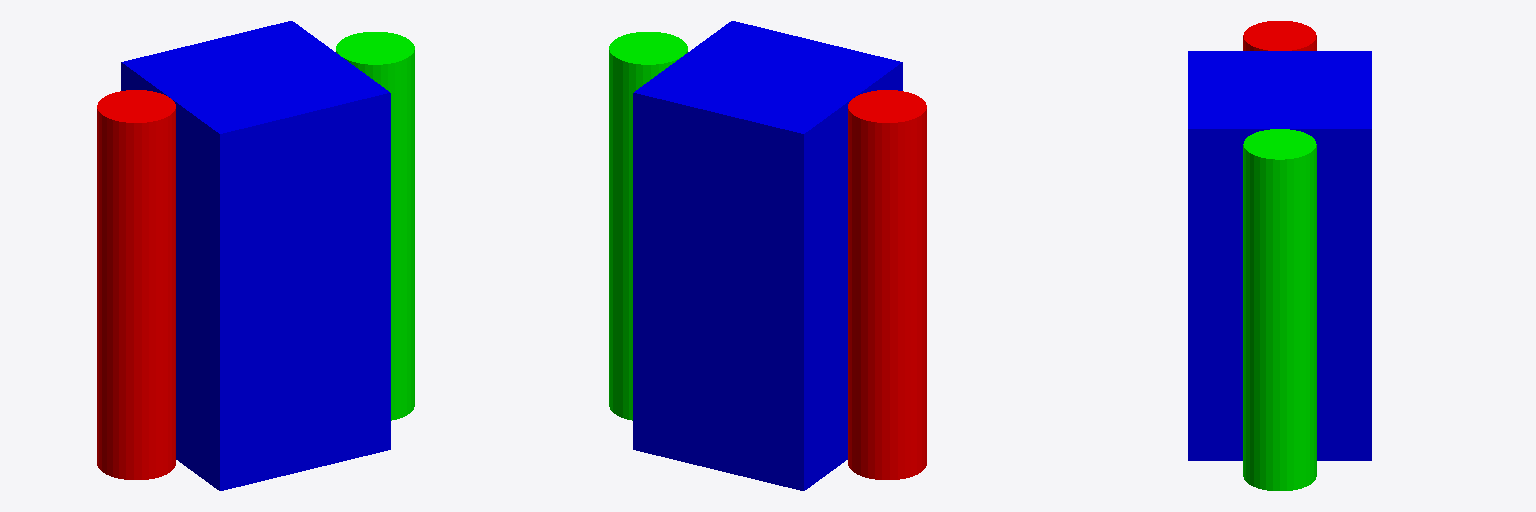
The robot description file, URDF, robot "simple_two_armed_robot":
<?xml version="1.0" ?>
<!-- =================================================================================== -->
<!-- |    This document was autogenerated by xacro from [local-path]/marvin/ros2_ws/src/marvin/urdf/marvin.urdf.xacro | -->
<!-- |    EDITING THIS FILE BY HAND IS NOT RECOMMENDED                                 | -->
<!-- =================================================================================== -->
<robot name="simple_two_armed_robot">
  <!-- Define a 'world' link as an anchor point (invisible and non-collidable) -->
  <link name="world"/>
  <!-- Connect 'world' link to 'base_link' with a fixed joint to position the robot above ground -->
  <joint name="world_to_base" type="fixed">
    <parent link="world"/>
    <child link="base_link"/>
    <!-- Adjust Z in the origin to set the height above ground -->
    <origin rpy="0 0 0" xyz="0 0 0.5"/>
  </joint>
  <!-- Material Definitions -->
  <material name="blue">
    <color rgba="0 0 1 1"/>
  </material>
  <material name="green">
    <color rgba="0 1 0 1"/>
  </material>
  <material name="red">
    <color rgba="1 0 0 1"/>
  </material>
  <!-- base_link (Torso) Link -->
  <link name="base_link">
    <inertial>
      <origin rpy="0 0 0" xyz="0 0 0"/>
      <mass value="10.0"/>
      <inertia ixx="0.1" ixy="0" ixz="0" iyy="0.1" iyz="0" izz="0.2"/>
    </inertial>
    <visual>
      <geometry>
        <box size="0.5 0.5 1"/>
      </geometry>
      <material name="blue"/>
    </visual>
  </link>
  <link name="left_arm">
    <inertial>
      <origin rpy="0 0 0" xyz="0 0 0"/>
      <mass value="1.0"/>
      <inertia ixx="0.01" ixy="0" ixz="0" iyy="0.01" iyz="0" izz="0.02"/>
    </inertial>
    <visual>
      <geometry>
        <cylinder length="1" radius="0.1"/>
      </geometry>
      <origin rpy="0 0 0" xyz="0.1 0 -0.5"/>
      <material name="green"/>
    </visual>
  </link>
  <link name="right_arm">
    <inertial>
      <origin rpy="0 0 0" xyz="0 0 0"/>
      <mass value="1.0"/>
      <inertia ixx="0.01" ixy="0" ixz="0" iyy="0.01" iyz="0" izz="0.02"/>
    </inertial>
    <visual>
      <geometry>
        <cylinder length="1" radius="0.1"/>
      </geometry>
      <origin rpy="0 0 0" xyz="-0.1 0 -0.5"/>
      <material name="red"/>
    </visual>
  </link>
  <joint name="left_shoulder" type="revolute">
    <parent link="base_link"/>
    <child link="left_arm"/>
    <origin rpy="0 0 0" xyz="0.25 0 0.5"/>
    <axis xyz="0 1 0"/>
    <limit effort="100" lower="-1.5" upper="1.5" velocity="0.5"/>
  </joint>
  <joint name="right_shoulder" type="revolute">
    <parent link="base_link"/>
    <child link="right_arm"/>
    <origin rpy="0 0 0" xyz="-0.25 0 0.5"/>
    <axis xyz="0 1 0"/>
    <limit effort="100" lower="-1.5" upper="1.5" velocity="0.5"/>
  </joint>
</robot>

--- Facts derived from the render (not from the file) ---
The picture shows the robot from 3 angles, left to right: view 1: azimuth 30°, elevation 25°; view 2: azimuth 150°, elevation 25°; view 3: azimuth 270°, elevation 25°; orthographic projection.
Robot: simple_two_armed_robot — 4 links, 3 joints (2 revolute, 1 fixed); root link world; default pose: all joints at 0.
Visible links, largest first — view 1: base_link, right_arm, left_arm; view 2: base_link, right_arm, left_arm; view 3: base_link, left_arm, right_arm.
Boxes of the visible links, x1=… form: base_link: x1=121, y1=21, x2=390, y2=490; right_arm: x1=97, y1=90, x2=175, y2=479; left_arm: x1=336, y1=32, x2=414, y2=420; base_link: x1=633, y1=21, x2=902, y2=490; right_arm: x1=848, y1=90, x2=926, y2=479; left_arm: x1=609, y1=32, x2=687, y2=420; base_link: x1=1188, y1=51, x2=1371, y2=460; left_arm: x1=1243, y1=129, x2=1316, y2=490; right_arm: x1=1243, y1=21, x2=1316, y2=50.
Bounding box of the posed robot: 0.9 × 0.5 × 1 m (x, y, z).
Geometry: primitives only (box / cylinder / sphere), no mesh files.
